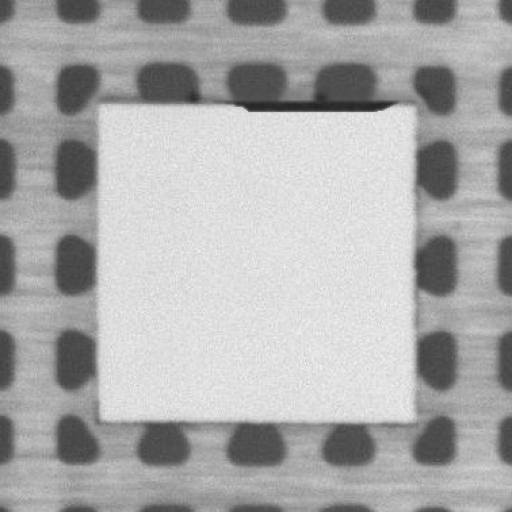DIE_BROKEN: (226, 92, 397, 115)
